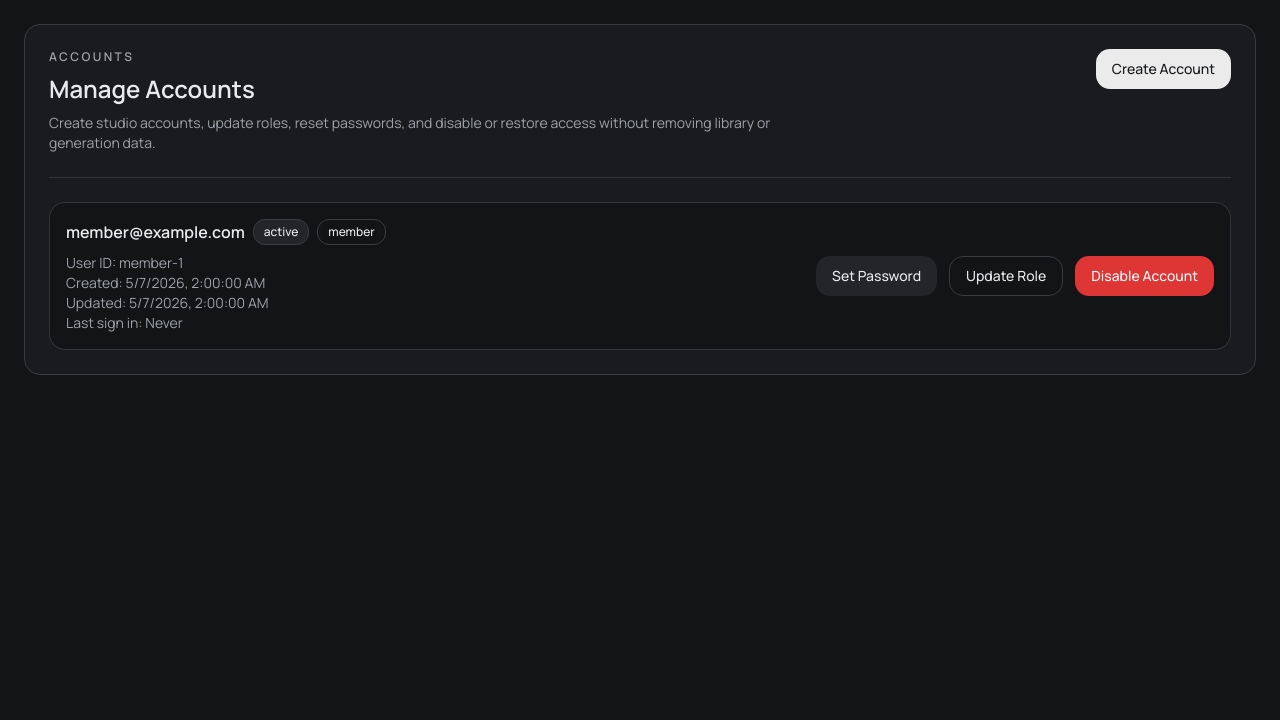
Test: AccountsManagementPage › opens create-account and set-password forms inside dialogs instead of rendering them inline
The width and height of the screenshot is (1280, 720).
Expected: the text "New accounts default to full member access" is not shown
Expected: the field labelled "Email" is not shown
Click the button "Create Account".
click(1163, 69)  # box [1096, 49, 1231, 89]
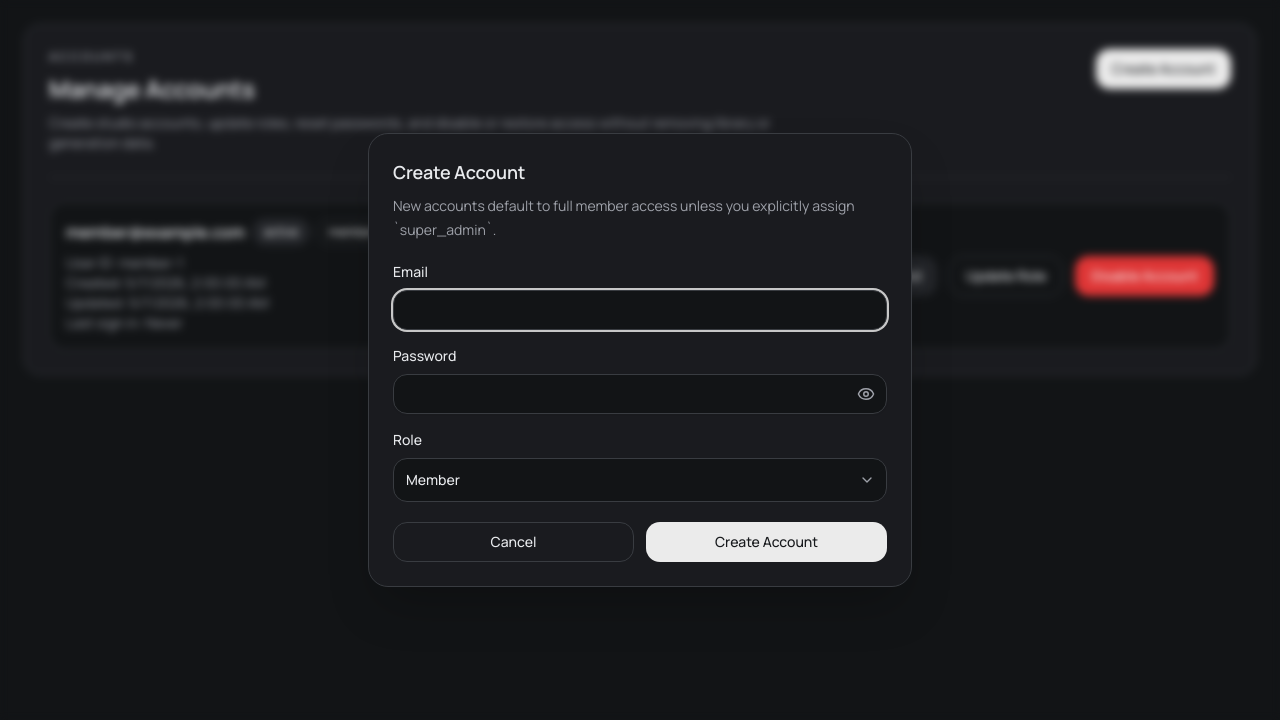
Now the heading "Create Account" is shown, box [393, 160, 525, 184]
Now the field labelled "Email" is shown, box [393, 290, 887, 330]
Now the password field labelled "Password" is shown, box [393, 374, 887, 414]
Click the button "Cancel".
click(514, 542)  # box [393, 522, 634, 562]
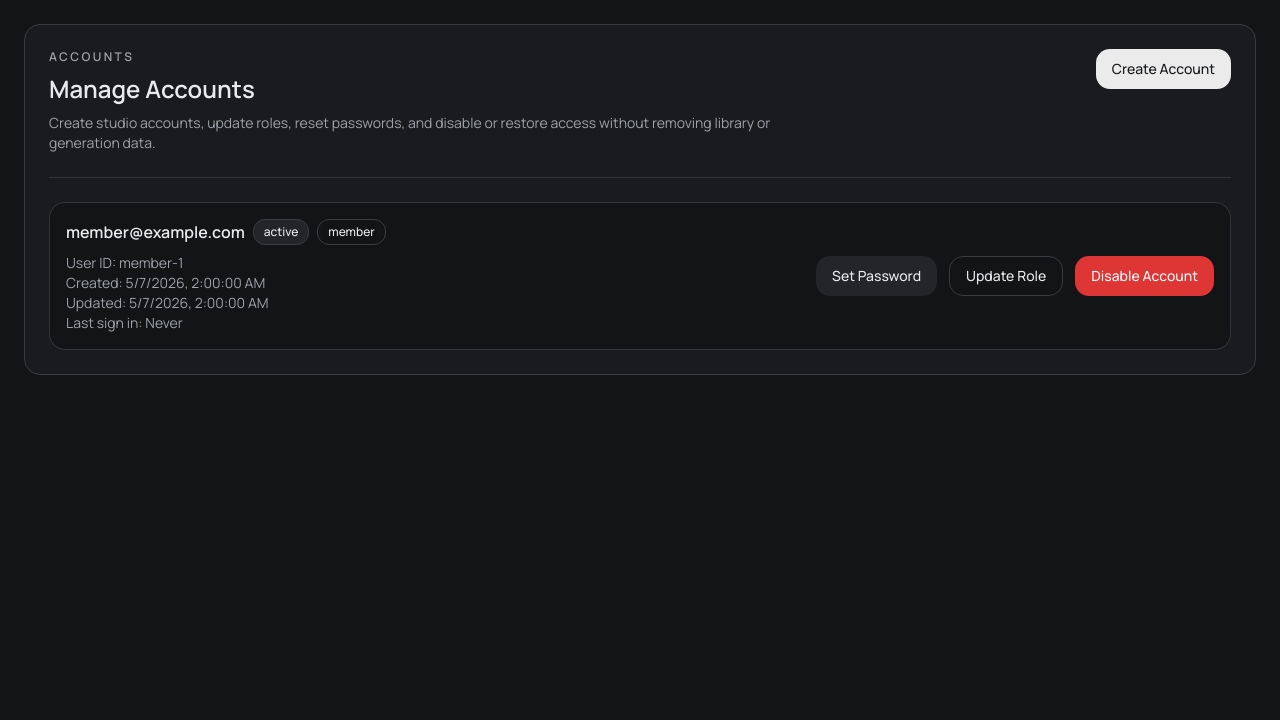
Click the button "Set Password".
click(877, 276)  # box [816, 256, 937, 296]
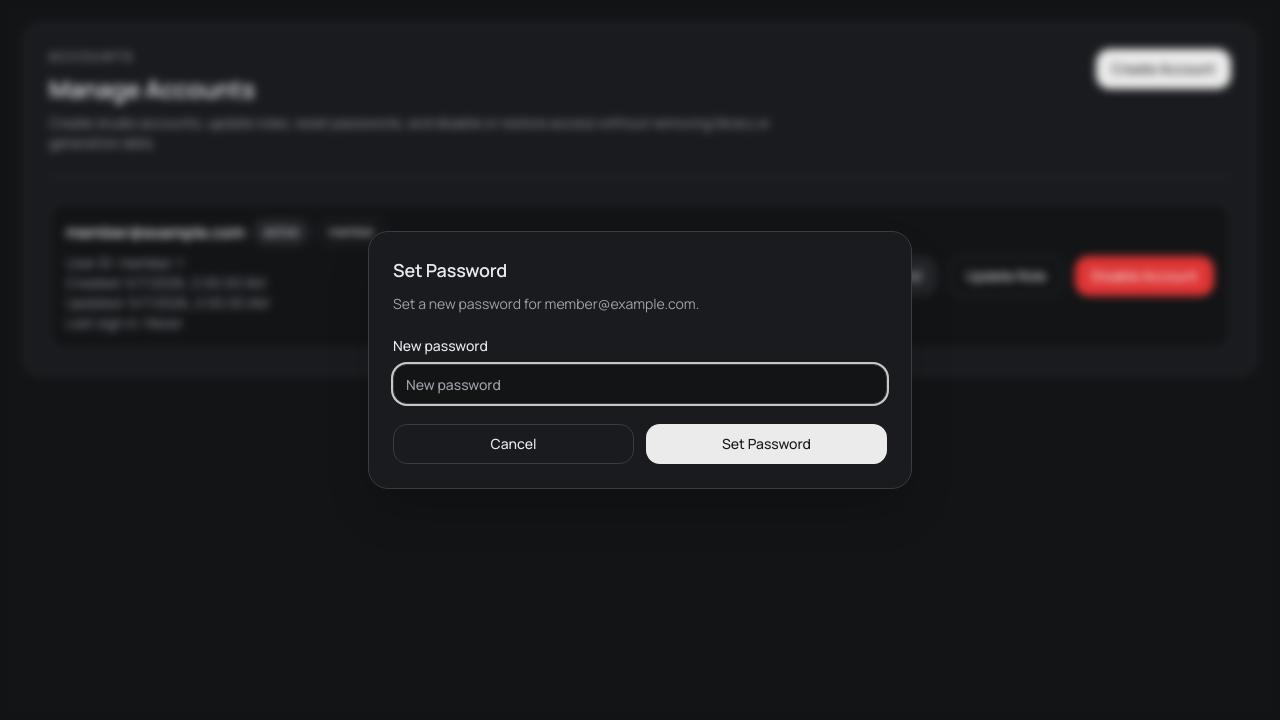
Now the heading "Set Password" is shown, box [393, 258, 507, 282]
Now the password field with placeholder "New password" is shown, box [393, 364, 887, 404]
Now the number of buttons "Cancel" is 1
Click the button "Cancel".
click(514, 444)  # box [393, 424, 634, 464]
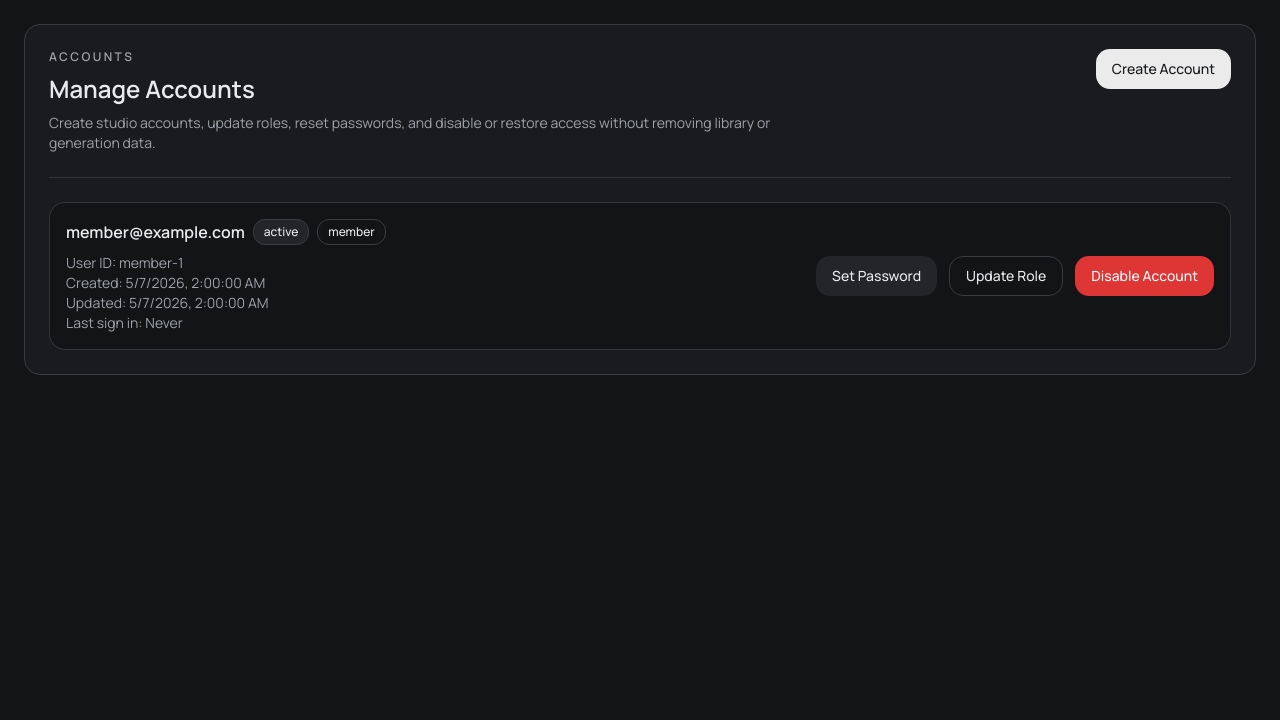
Click the button "Update Role".
click(1006, 276)  # box [949, 256, 1063, 296]
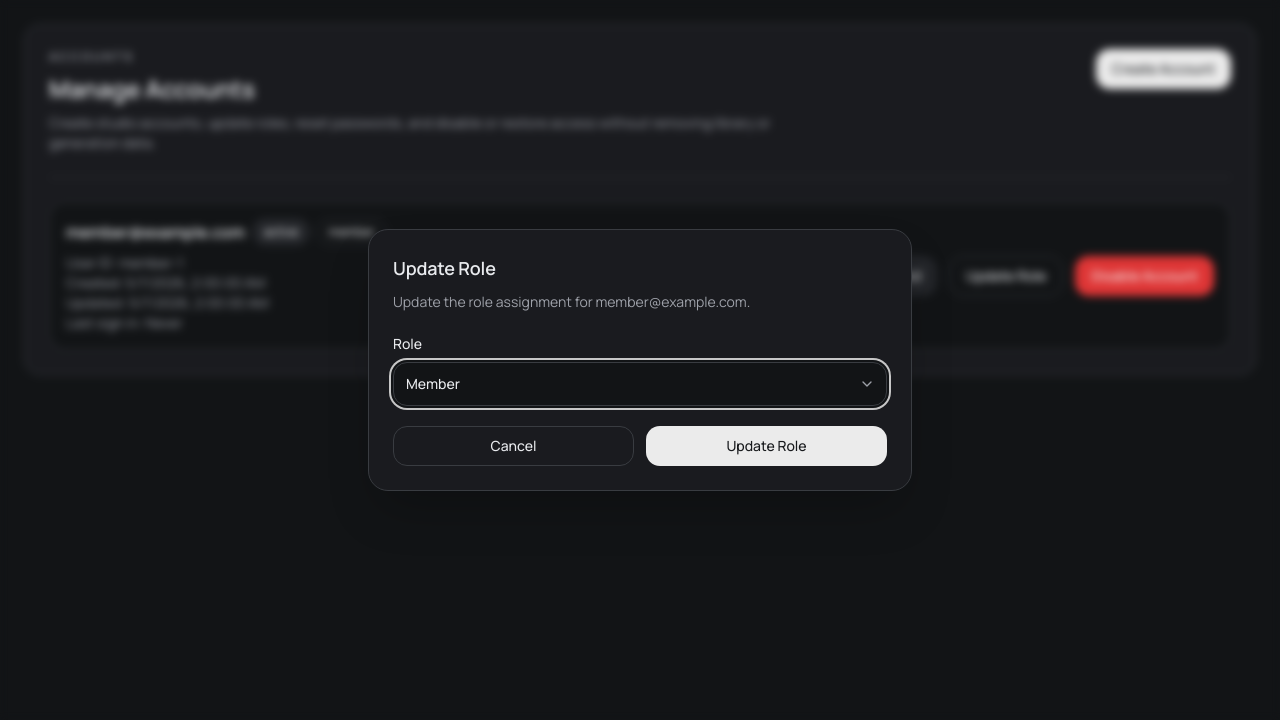
Now the heading "Update Role" is shown, box [393, 256, 496, 280]
Now the dropdown labelled "Role" is shown, box [393, 362, 887, 406]
Now the button "Update Role" is shown, box [646, 426, 887, 466]
